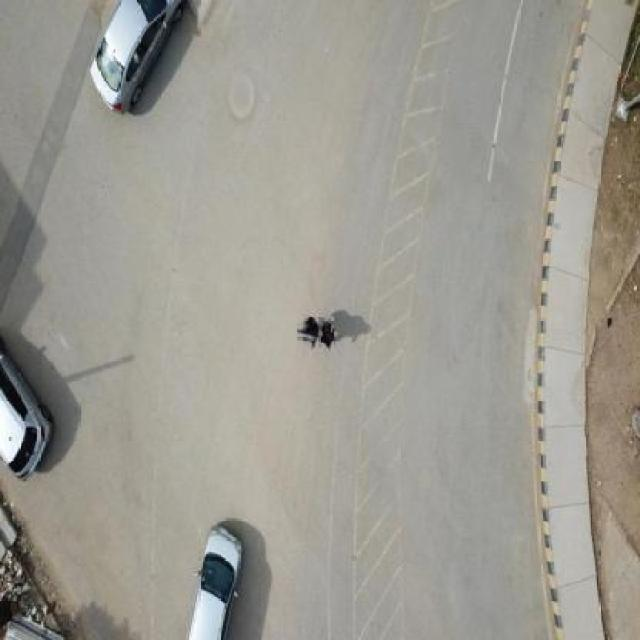Person: (300, 318, 326, 344), (318, 318, 336, 353)
